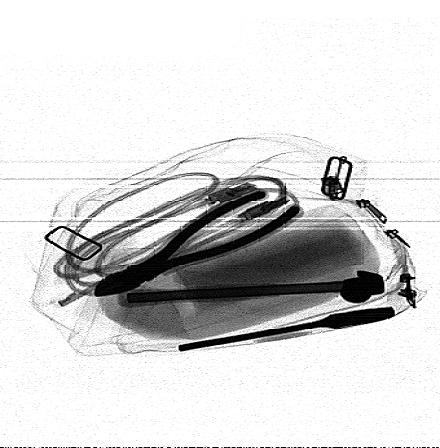Hammer: (113, 270, 388, 310)
Pliers: (91, 187, 309, 298)
Wrench: (176, 304, 399, 355)
